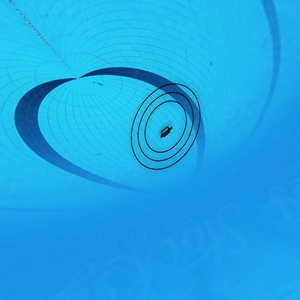circle: (127, 81, 206, 173)
submarine: (162, 125, 175, 140)
